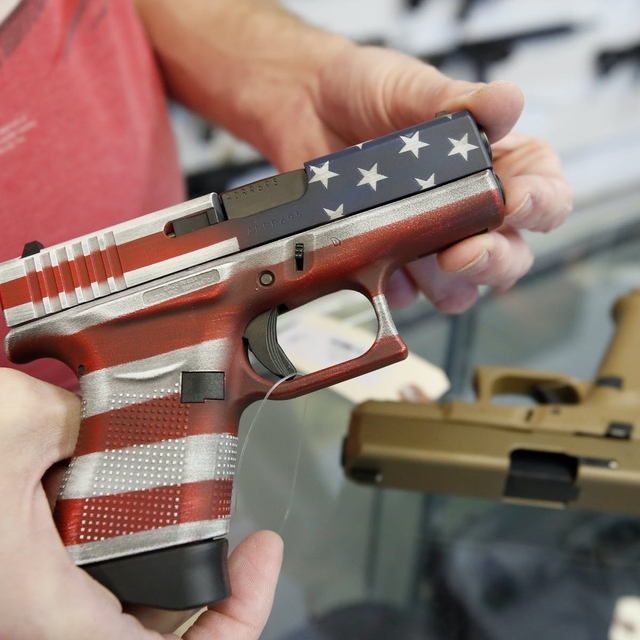SILAH: (15, 99, 522, 612)
